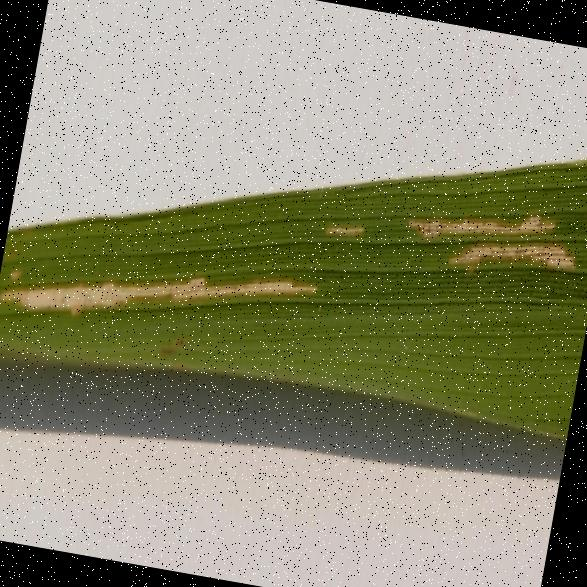Bacteria_Leaf_Blight: (9, 220, 322, 327), (383, 187, 587, 318)
